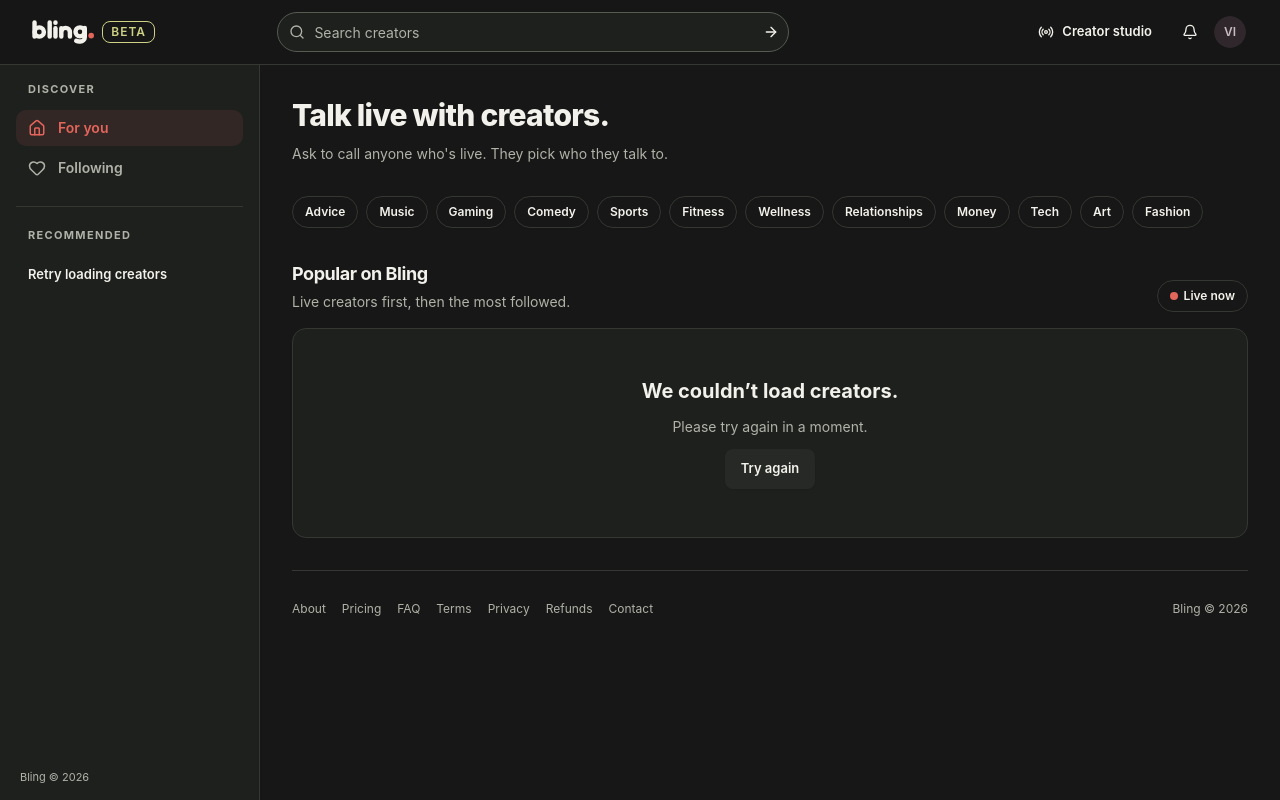
Test: API-backed social discovery › recovers from a discovery failure using the retry control
The width and height of the screenshot is (1280, 800).
Expected: the message shows "We couldn’t load creators.", top-left (642, 378), bottom-right (898, 402)
Click the button "Try again" at coordinates (770, 468), box top-left (725, 448), bottom-right (815, 488)
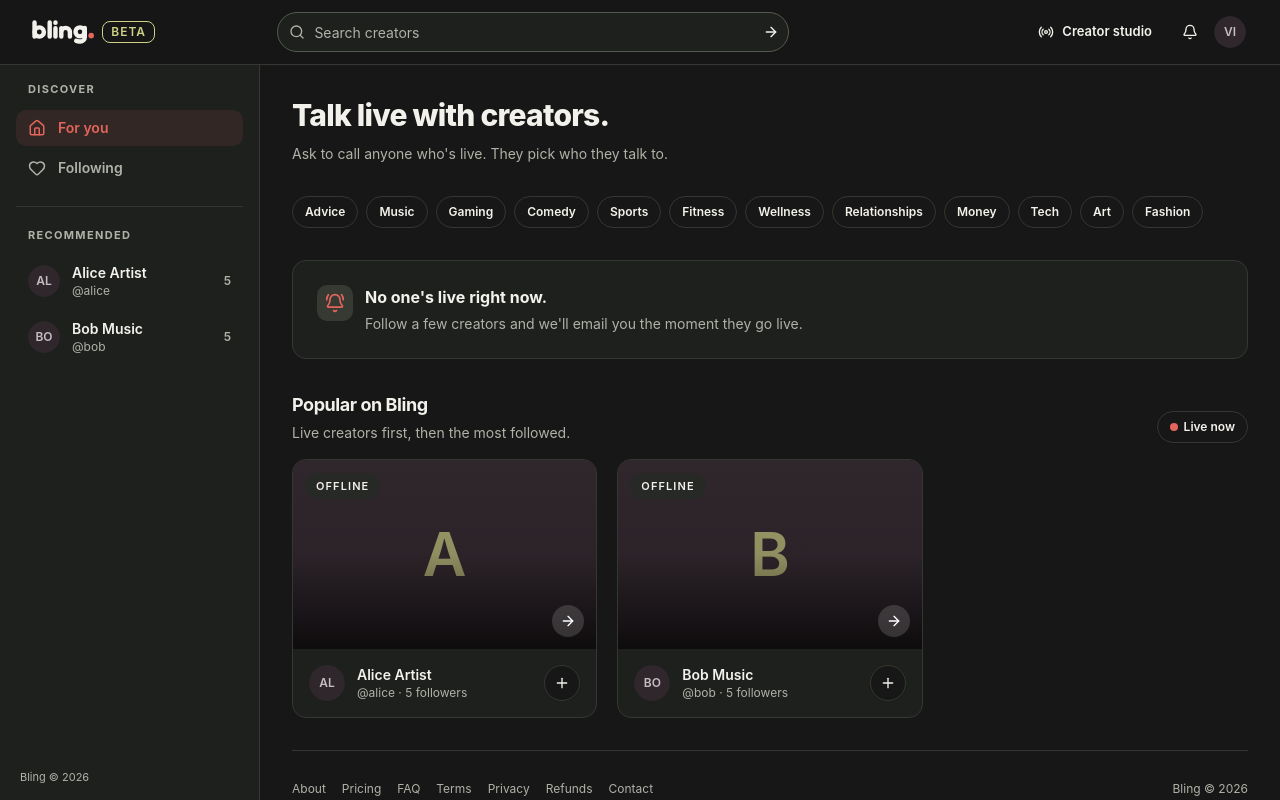
Now the link with aria-label "Visit Alice Artist" is shown, box top-left (293, 460), bottom-right (596, 649)
